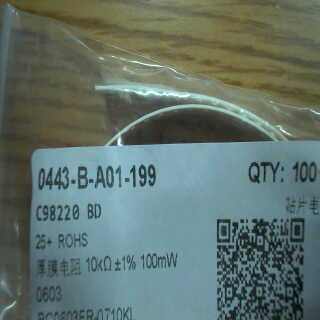10kR: (83, 254, 112, 275)
